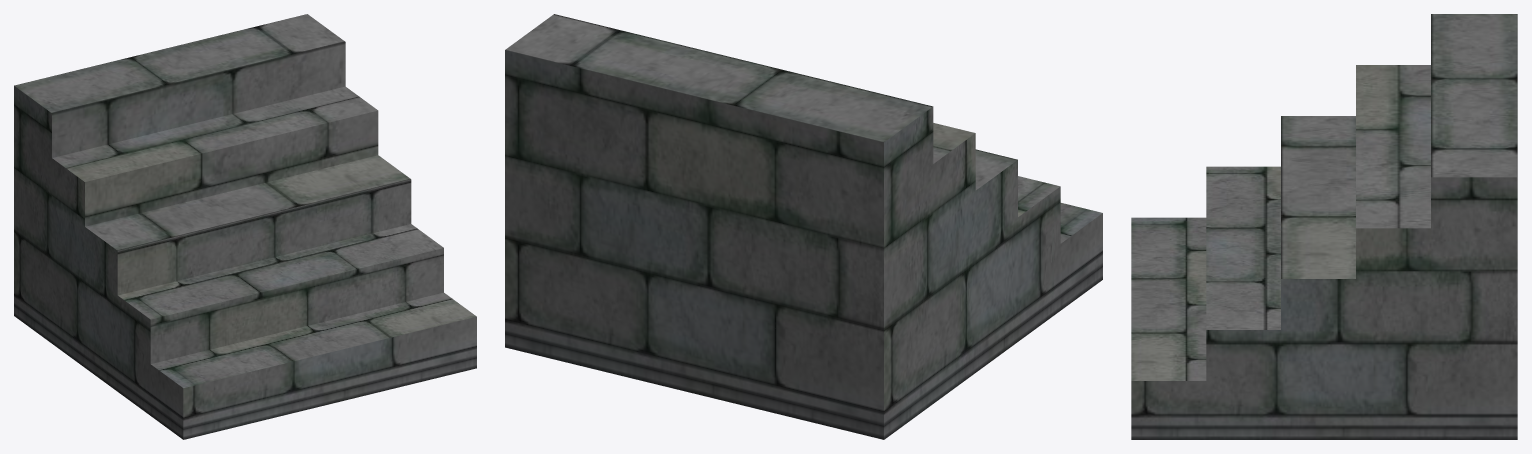
Rendered from stairs_short_small_01.glb.
3 views of the same model, side by side, from view 1: azimuth 30°, elevation 25°; view 2: azimuth 150°, elevation 25°; view 3: azimuth 270°, elevation 25° (orthographic). The views are drawn at different scales.
Visible parts, largest first — view 1: stairs_short_small_01; view 2: stairs_short_small_01; view 3: stairs_short_small_01.
Part boxes in pixels (bbox=[...]): stairs_short_small_01: bbox=[14, 14, 476, 439]; stairs_short_small_01: bbox=[505, 14, 1102, 439]; stairs_short_small_01: bbox=[1131, 14, 1517, 439].
Bounding box in the file's own units: 2 × 1.5 × 2.
Materials: 1 (1 with a texture image).
